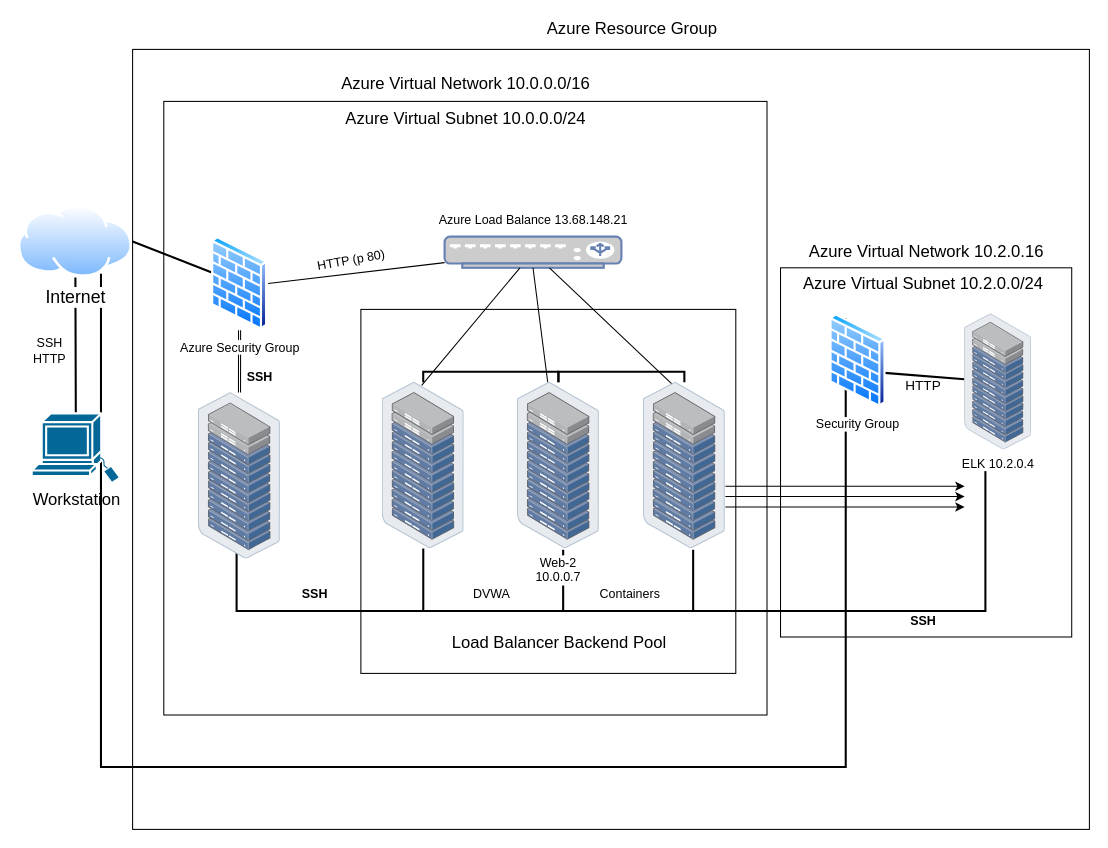
Some shapes in this 1108 by 848 pixel diagram are drawn without their labels. Each missing label, with the centre of its shape:
"JumpBox VM Ansible 10.0.0.4" goes at (x=239, y=475).
"Web-1 10.0.0.8" goes at (x=423, y=465).
"Web-3 10.0.0.9" goes at (x=684, y=465).
